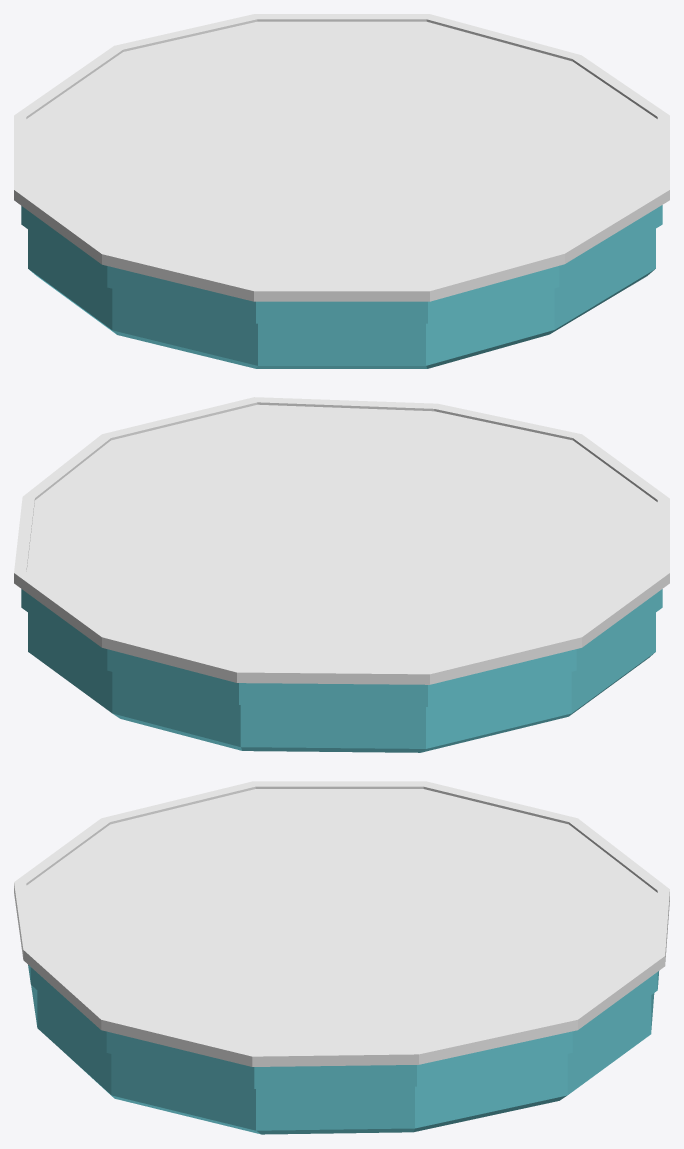
Rendered from SM_Sample_Bowl.glb.
3 renders of one model, top to bottom at view 1: azimuth 30°, elevation 25°; view 2: azimuth 150°, elevation 25°; view 3: azimuth 270°, elevation 25°, orthographic.
Parts seen in each view (by area): view 1: SM_Sample _Bowl_Lid, SM_Sample_Bowl; view 2: SM_Sample _Bowl_Lid, SM_Sample_Bowl; view 3: SM_Sample _Bowl_Lid, SM_Sample_Bowl.
Part boxes in pixels (bbox=[...]): SM_Sample _Bowl_Lid: bbox=[14, 14, 669, 301]; SM_Sample_Bowl: bbox=[21, 205, 662, 368]; SM_Sample _Bowl_Lid: bbox=[14, 397, 669, 684]; SM_Sample_Bowl: bbox=[21, 589, 662, 752]; SM_Sample _Bowl_Lid: bbox=[14, 781, 669, 1066]; SM_Sample_Bowl: bbox=[28, 965, 658, 1134].
Bounding box in the file's own units: 0.1009 × 0.0148 × 0.1017.
